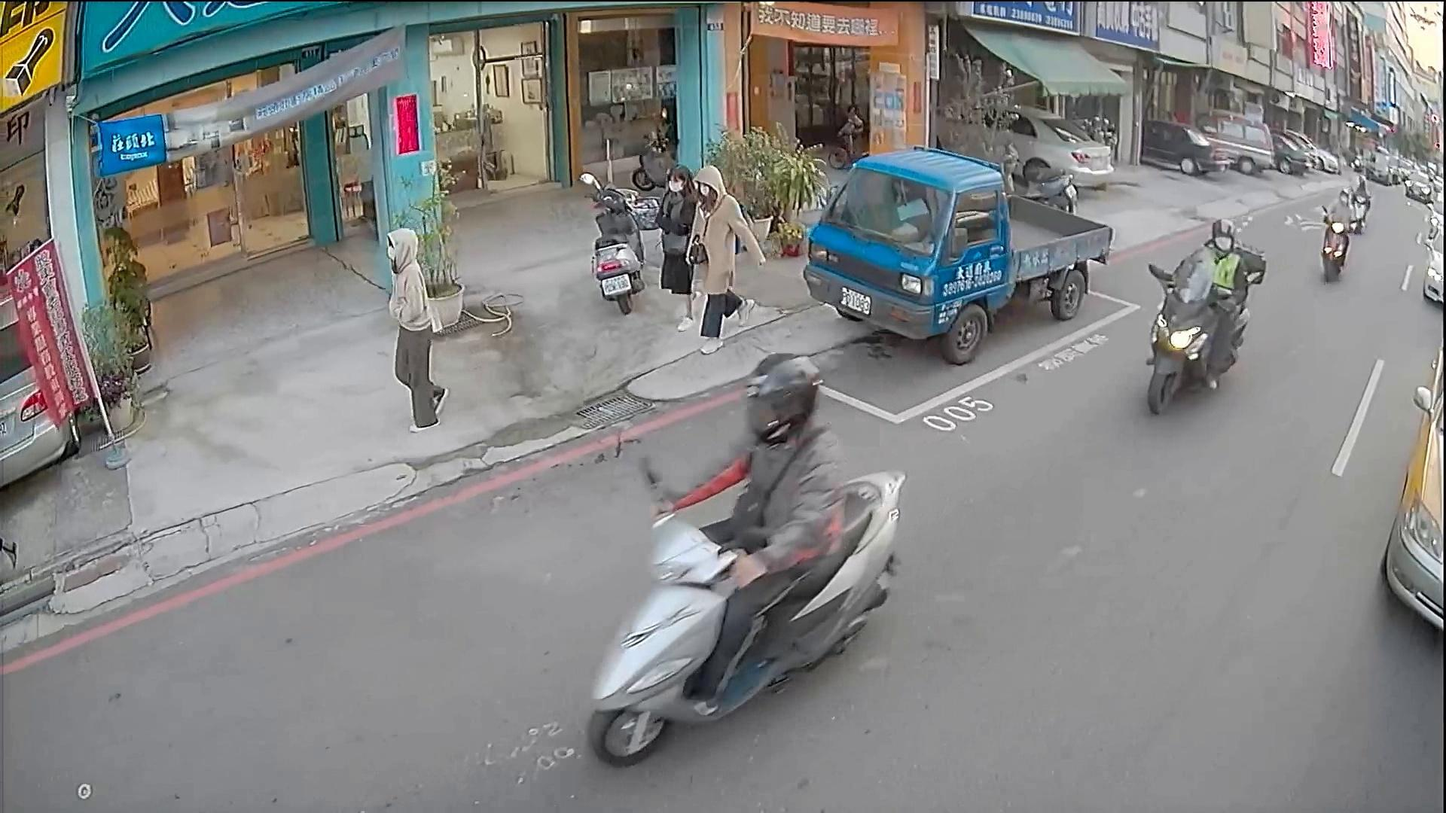person: (640, 349, 854, 722), (1139, 220, 1256, 397), (678, 161, 768, 341), (378, 221, 454, 432), (654, 160, 716, 330), (1321, 182, 1358, 236), (1349, 172, 1371, 202)
